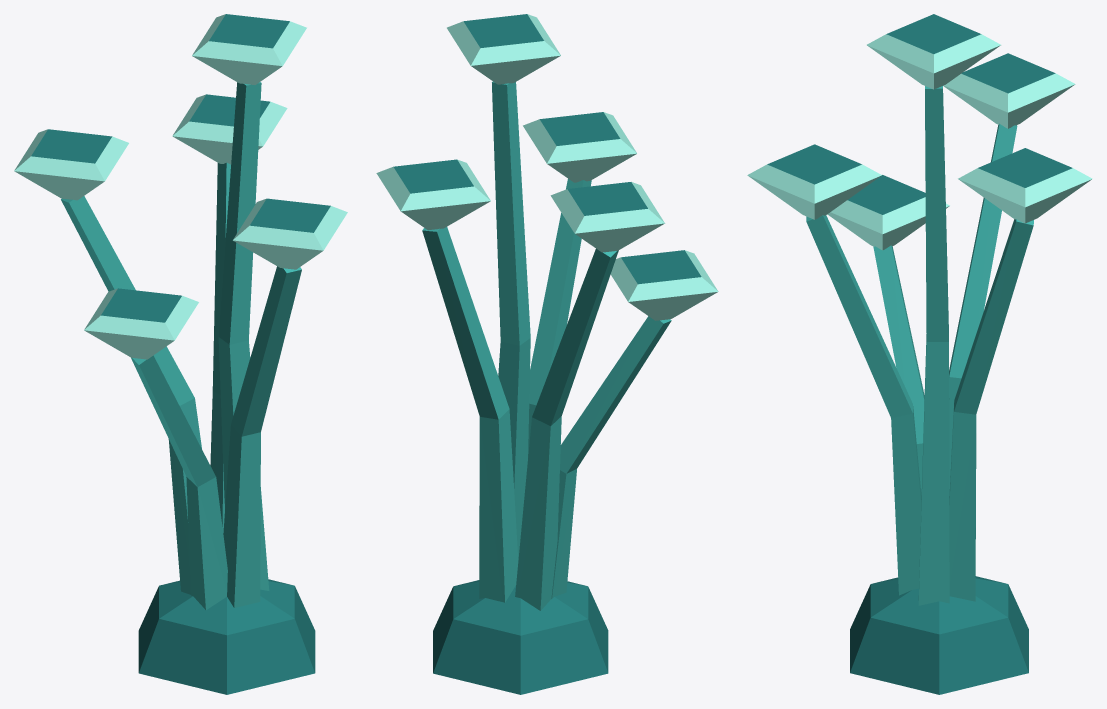
File: plant_bulb_glow_cyan.fbx
The picture shows the model from 3 angles, left to right: view 1: azimuth 30°, elevation 25°; view 2: azimuth 150°, elevation 25°; view 3: azimuth 270°, elevation 25°; orthographic projection. The views are drawn at different scales.
Parts seen in each view (by area): view 1: plant_bulb_glow_cyan; view 2: plant_bulb_glow_cyan; view 3: plant_bulb_glow_cyan.
Boxes of the visible parts, left/top/right/bottom form: plant_bulb_glow_cyan: left=14, top=14, right=347, bottom=694; plant_bulb_glow_cyan: left=376, top=14, right=718, bottom=694; plant_bulb_glow_cyan: left=747, top=14, right=1092, bottom=694.
Bounding box in the file's own units: 416 × 870 × 435.
Materials: 1 (1 with a texture image).
